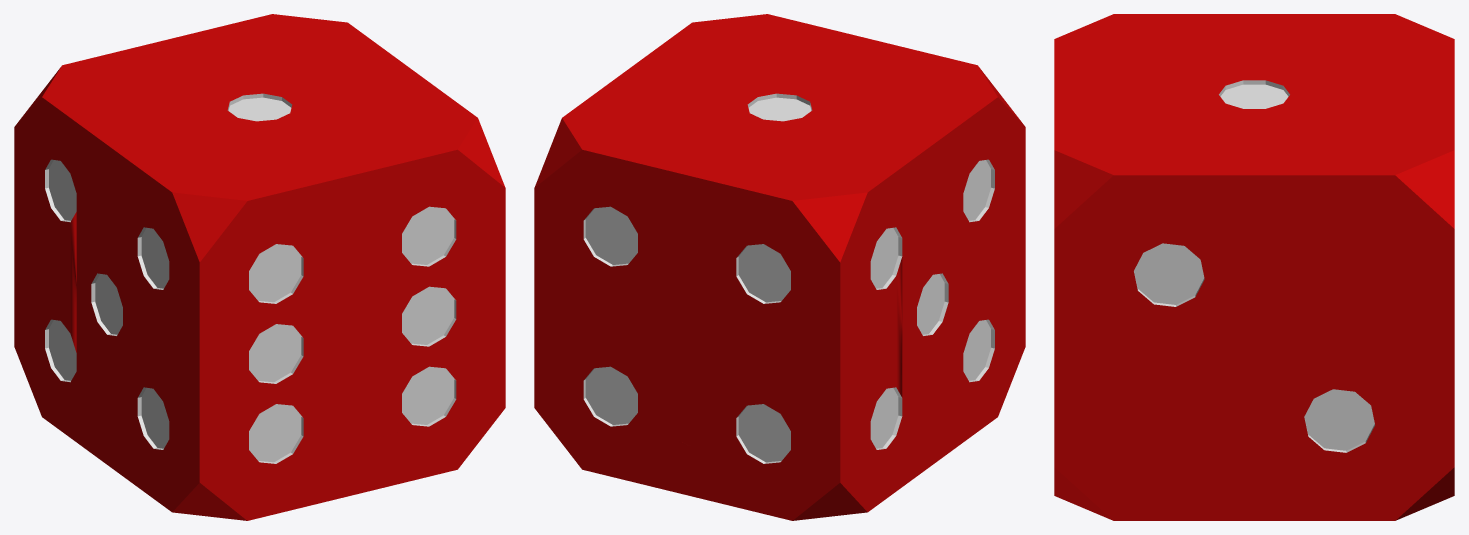
Rendered from Red die.fbx.
3 renders of one model, left to right at view 1: azimuth 30°, elevation 25°; view 2: azimuth 150°, elevation 25°; view 3: azimuth 270°, elevation 25°, orthographic. The views are drawn at different scales.
Parts seen in each view (by area): view 1: Game_Dice_D6_Red_01.001; view 2: Game_Dice_D6_Red_01.001; view 3: Game_Dice_D6_Red_01.001.
Part boxes in pixels (x1=…): Game_Dice_D6_Red_01.001: x1=14, y1=14, x2=505, y2=520; Game_Dice_D6_Red_01.001: x1=534, y1=14, x2=1025, y2=520; Game_Dice_D6_Red_01.001: x1=1054, y1=14, x2=1454, y2=520.
Bounding box in the file's own units: 28.02 × 28.02 × 29.42.
